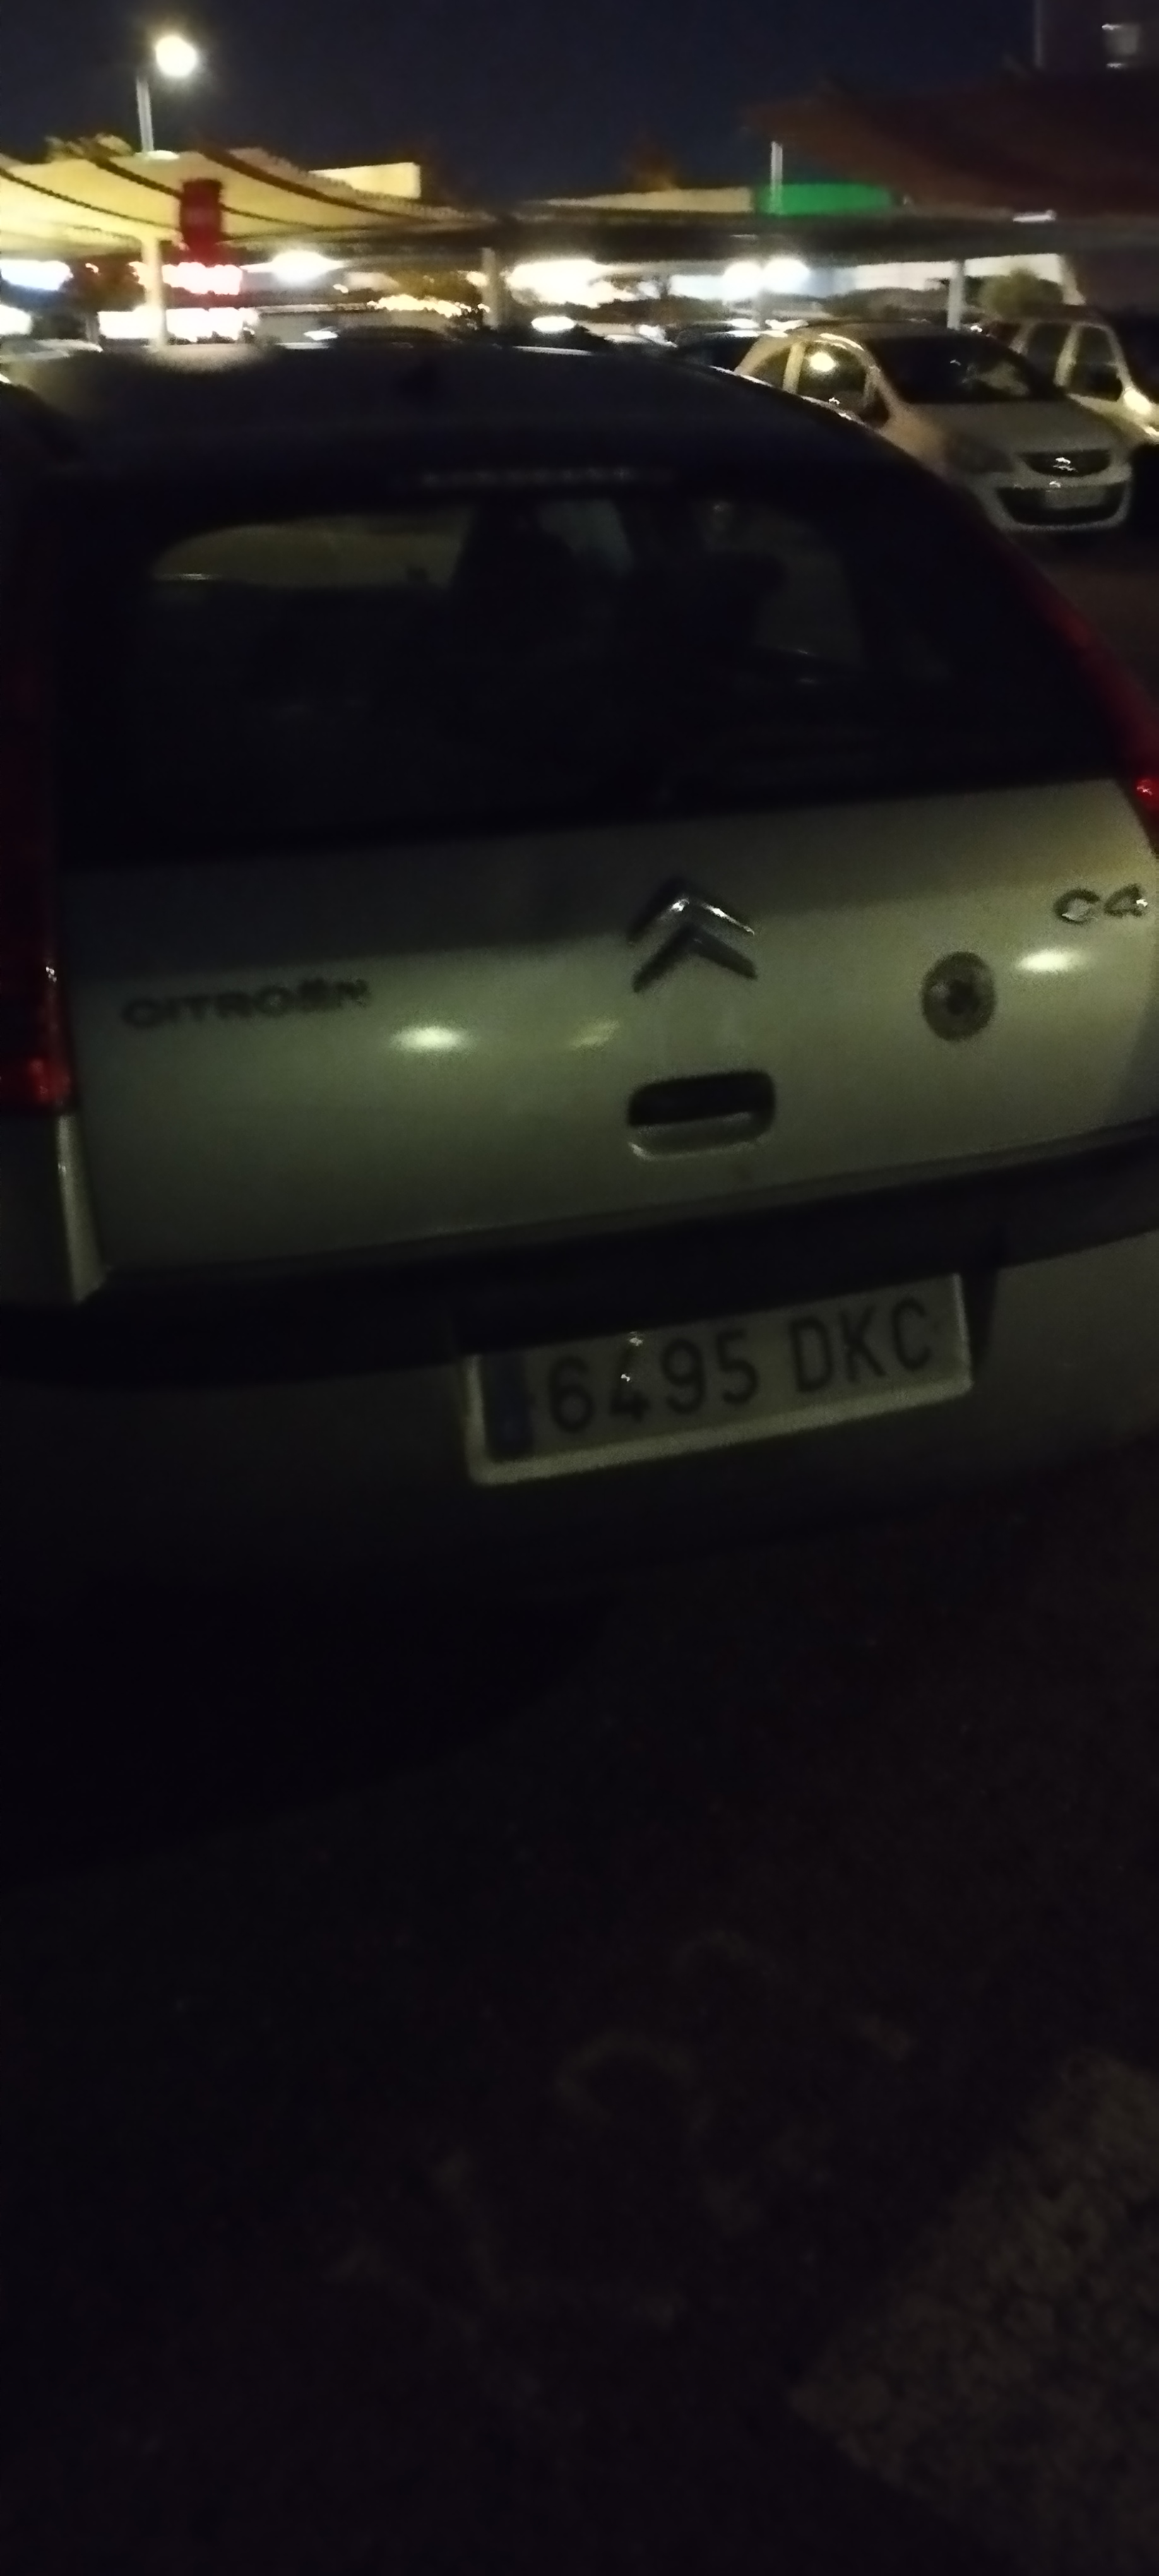Plate: (468, 1364, 975, 1470)
